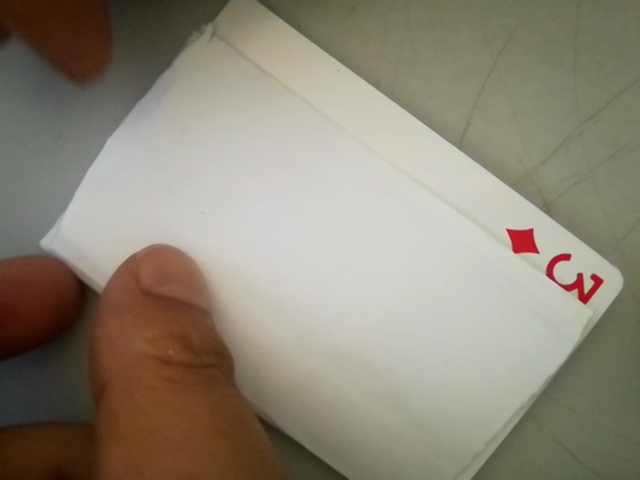fk 3: (501, 223, 615, 310)
